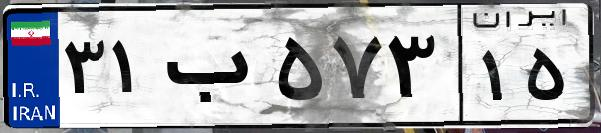1: (475, 38, 525, 113), (110, 28, 158, 98)
3: (385, 28, 445, 110), (57, 26, 110, 100)
5: (270, 28, 330, 110), (525, 38, 570, 115)
7: (330, 28, 385, 110)
ب: (158, 20, 270, 120)
